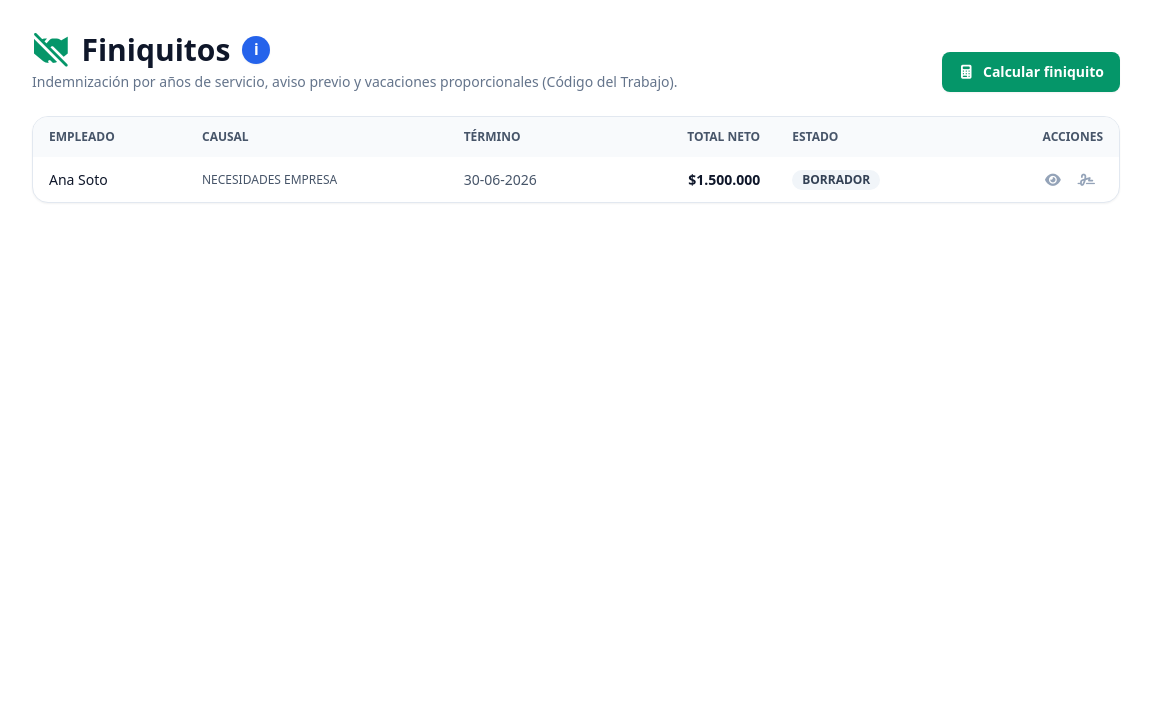
Scenario: FiniquitosRrhh › abre el modal de calculo con la causal legal
Expected: the text "Ana Soto" is shown, x1=33 y1=157 x2=186 y2=202
Click the button "Calcular finiquito" at (1031, 72), box x1=942 y1=52 x2=1120 y2=92
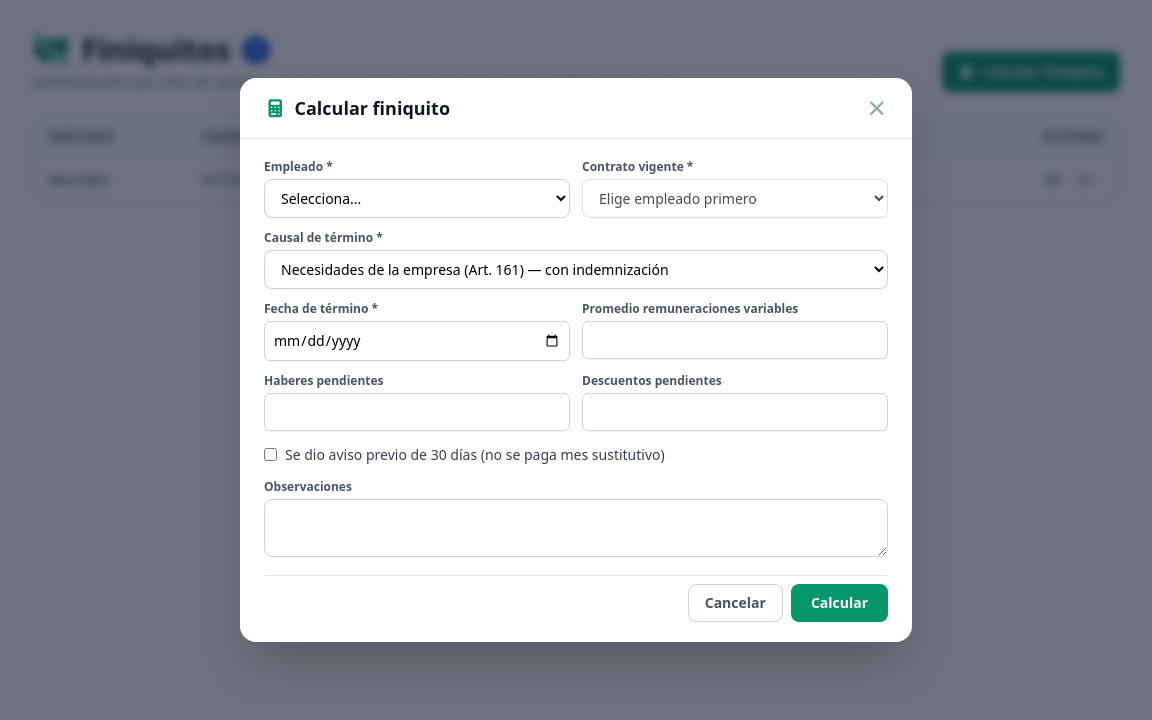
Expected: the text "Causal de término *" is shown, x1=264 y1=229 x2=383 y2=246
Expected: the text "Contrato vigente *" is shown, x1=582 y1=158 x2=693 y2=175
